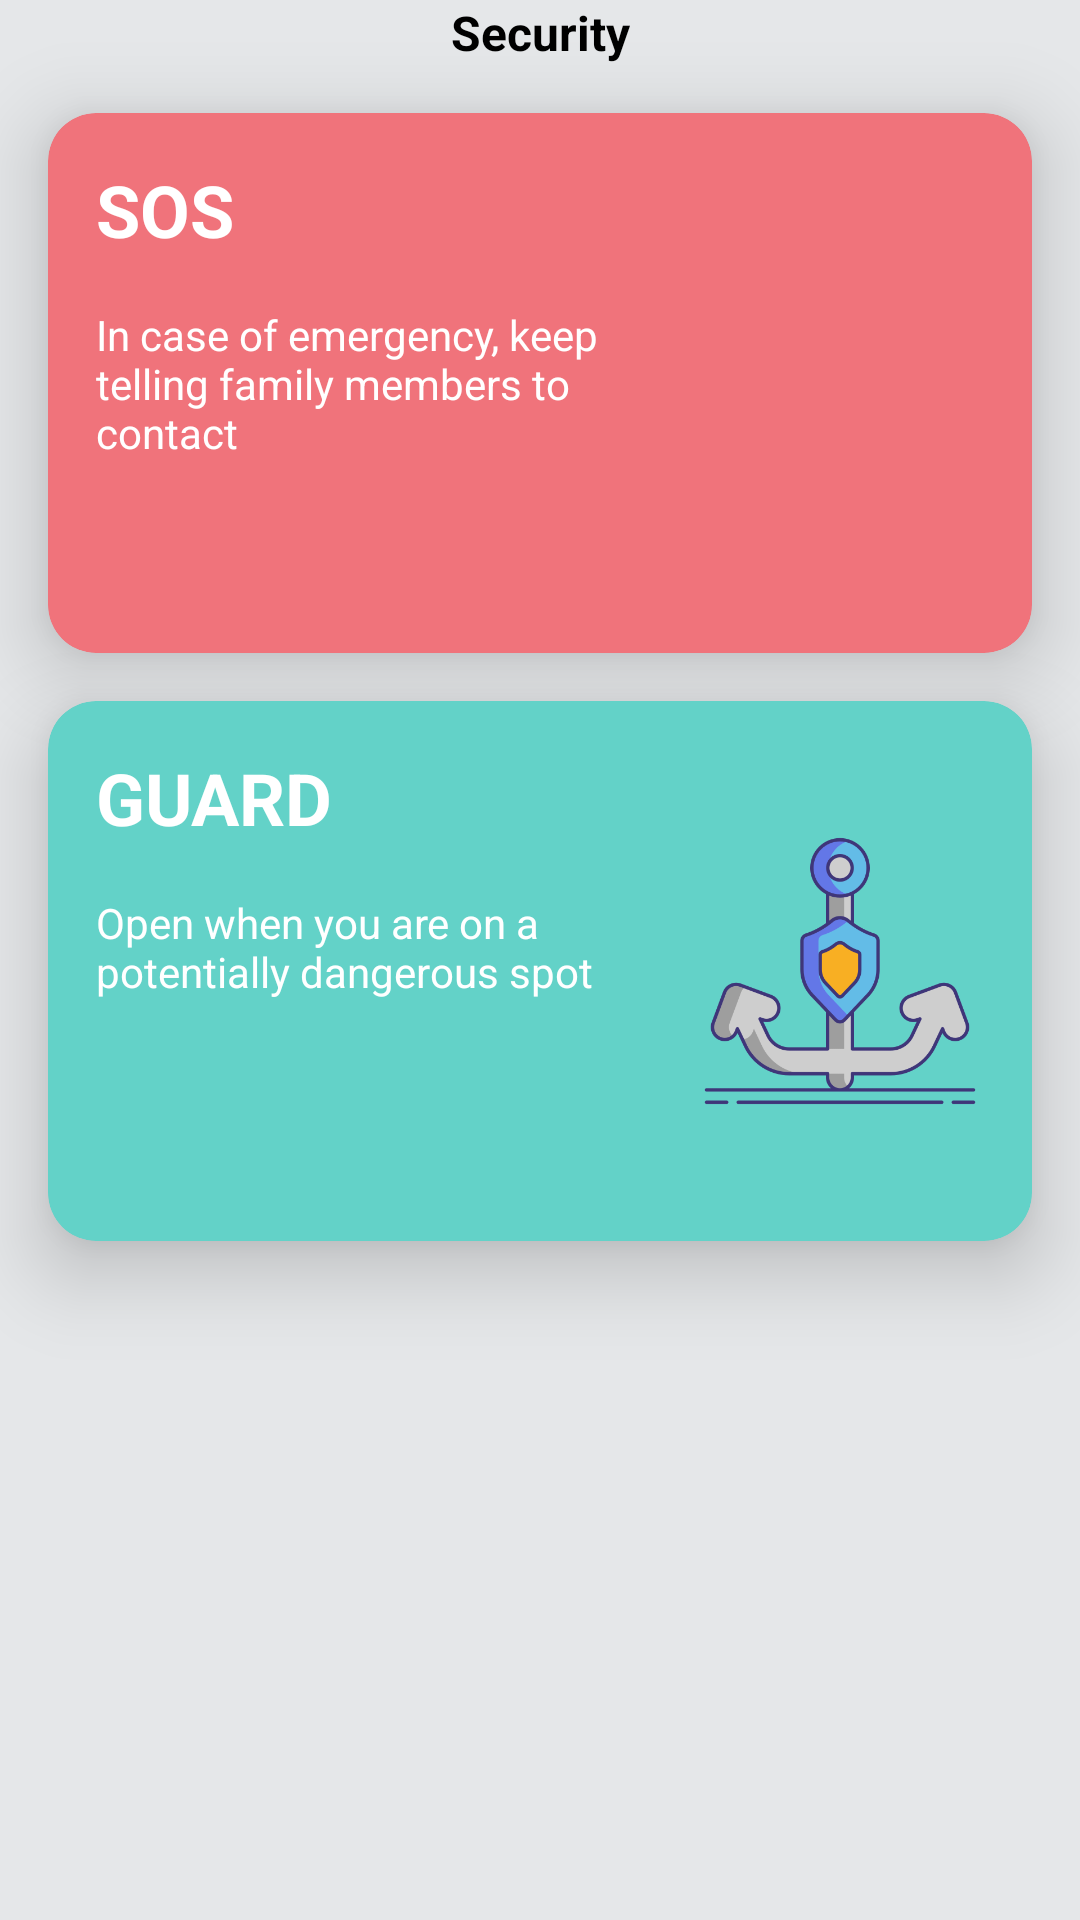

Where to tap for icons on this 1080w x 1920h app screen, as [x,y]:
guard: [840,971]
